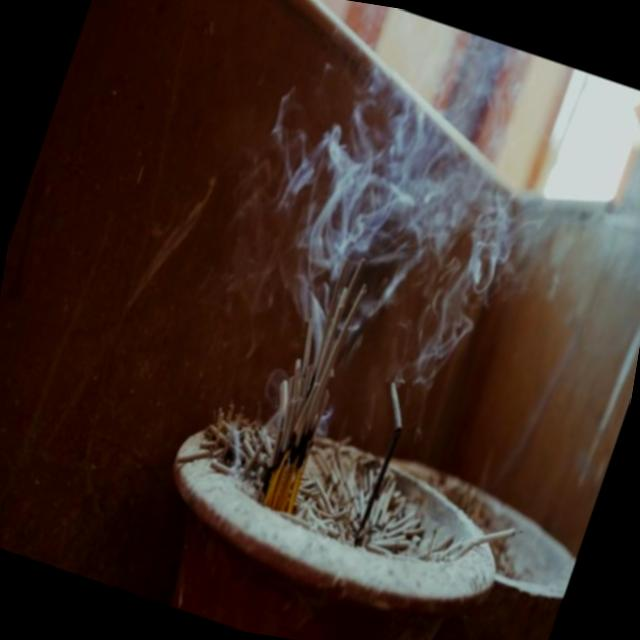smoke: (264, 72, 564, 354)
